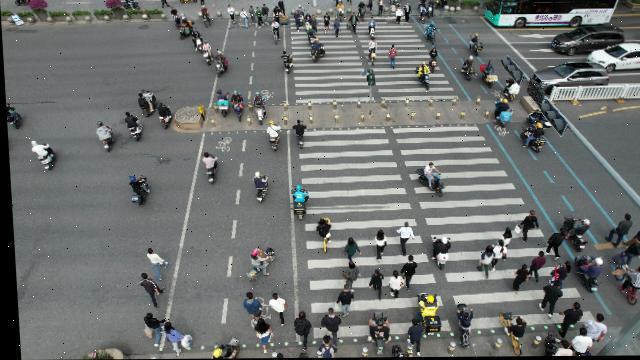non-motor-vehicle: (497, 311, 523, 356), (413, 162, 444, 199), (609, 268, 638, 307), (365, 311, 389, 355), (562, 217, 592, 252), (244, 247, 273, 282), (450, 304, 469, 348), (29, 139, 55, 170), (92, 120, 115, 152), (519, 126, 545, 154), (430, 236, 450, 271), (289, 184, 308, 220), (312, 218, 330, 254), (207, 339, 238, 359), (128, 177, 150, 205), (262, 121, 281, 152), (123, 113, 143, 141), (199, 153, 217, 184), (135, 89, 156, 115), (250, 174, 268, 203), (479, 65, 498, 89), (249, 96, 267, 121), (215, 90, 231, 118), (493, 101, 512, 124), (414, 64, 429, 92), (526, 112, 549, 130), (229, 92, 243, 120), (156, 106, 173, 129), (6, 103, 21, 129), (460, 59, 476, 82), (290, 122, 304, 147), (310, 41, 325, 64), (213, 58, 230, 78), (177, 19, 194, 39), (502, 81, 518, 101), (469, 36, 484, 56), (425, 25, 439, 46), (191, 28, 203, 52), (280, 51, 293, 73), (271, 21, 282, 46), (202, 40, 213, 65), (428, 48, 438, 73), (368, 40, 377, 66), (200, 7, 211, 28), (357, 0, 367, 22), (426, 0, 437, 19), (336, 2, 346, 22), (368, 18, 377, 37), (122, 0, 140, 9), (306, 28, 316, 44), (298, 5, 305, 26), (419, 7, 427, 25), (435, 0, 448, 9), (304, 12, 312, 23), (419, 0, 428, 7), (390, 0, 402, 5)
person: (553, 304, 581, 339), (160, 323, 188, 355), (139, 312, 162, 349), (247, 318, 270, 355), (514, 211, 539, 243), (535, 283, 559, 316), (136, 275, 159, 309), (316, 310, 339, 343), (615, 236, 640, 266), (289, 314, 310, 349), (143, 248, 166, 279), (606, 212, 629, 243), (403, 321, 423, 356), (266, 293, 285, 328), (581, 316, 606, 342), (471, 246, 495, 273), (580, 259, 602, 288), (239, 294, 260, 323), (568, 331, 592, 356), (399, 259, 417, 289), (341, 237, 359, 267), (543, 232, 564, 257), (334, 289, 353, 316), (488, 241, 504, 272), (526, 254, 545, 280), (384, 270, 401, 299), (509, 268, 527, 295), (372, 229, 387, 261), (397, 224, 414, 252), (549, 263, 567, 289), (366, 271, 382, 298), (314, 338, 335, 357), (338, 268, 354, 292), (345, 13, 359, 35), (496, 227, 510, 248), (386, 46, 398, 67), (273, 7, 287, 24), (293, 12, 302, 33), (331, 18, 341, 36), (239, 8, 248, 28), (404, 4, 413, 24), (322, 14, 330, 35), (262, 4, 269, 26), (395, 8, 405, 23), (228, 6, 238, 21), (256, 7, 263, 28), (632, 223, 640, 241), (366, 0, 375, 13), (378, 0, 385, 16), (249, 7, 255, 25), (637, 317, 640, 352), (311, 15, 317, 30), (170, 5, 177, 17)
